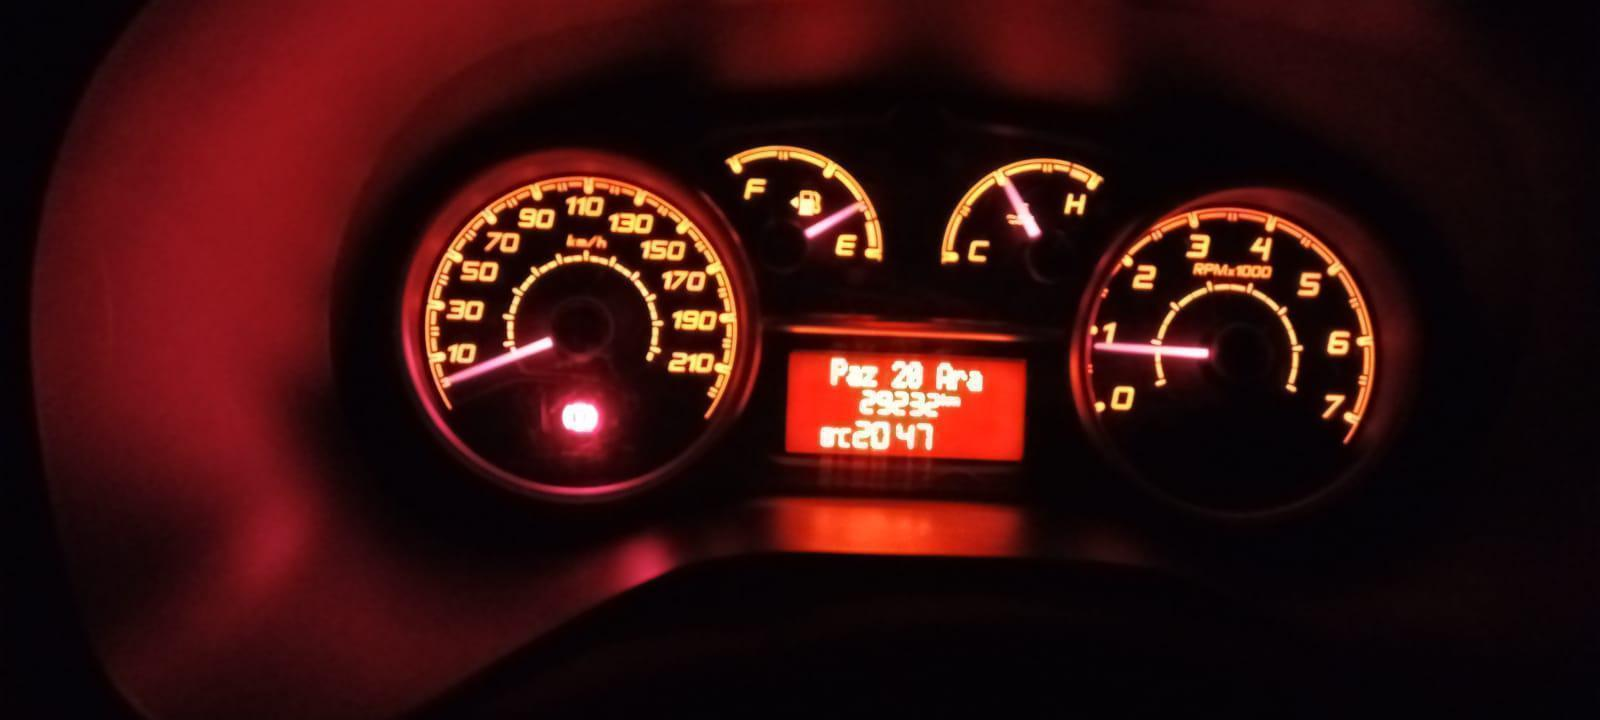0: (907, 357, 924, 389), (871, 419, 890, 449)
2: (852, 419, 870, 450), (889, 358, 906, 389), (892, 389, 908, 416), (859, 388, 876, 413), (924, 390, 939, 417)
3: (909, 391, 924, 417)
4: (894, 422, 917, 450)
7: (918, 422, 934, 452)
9: (876, 389, 893, 416)
X: (829, 357, 846, 385), (936, 361, 952, 390), (967, 368, 986, 392), (861, 364, 879, 387), (838, 423, 851, 449), (953, 366, 965, 392), (848, 363, 860, 388)
odometer: (781, 348, 1028, 465)
